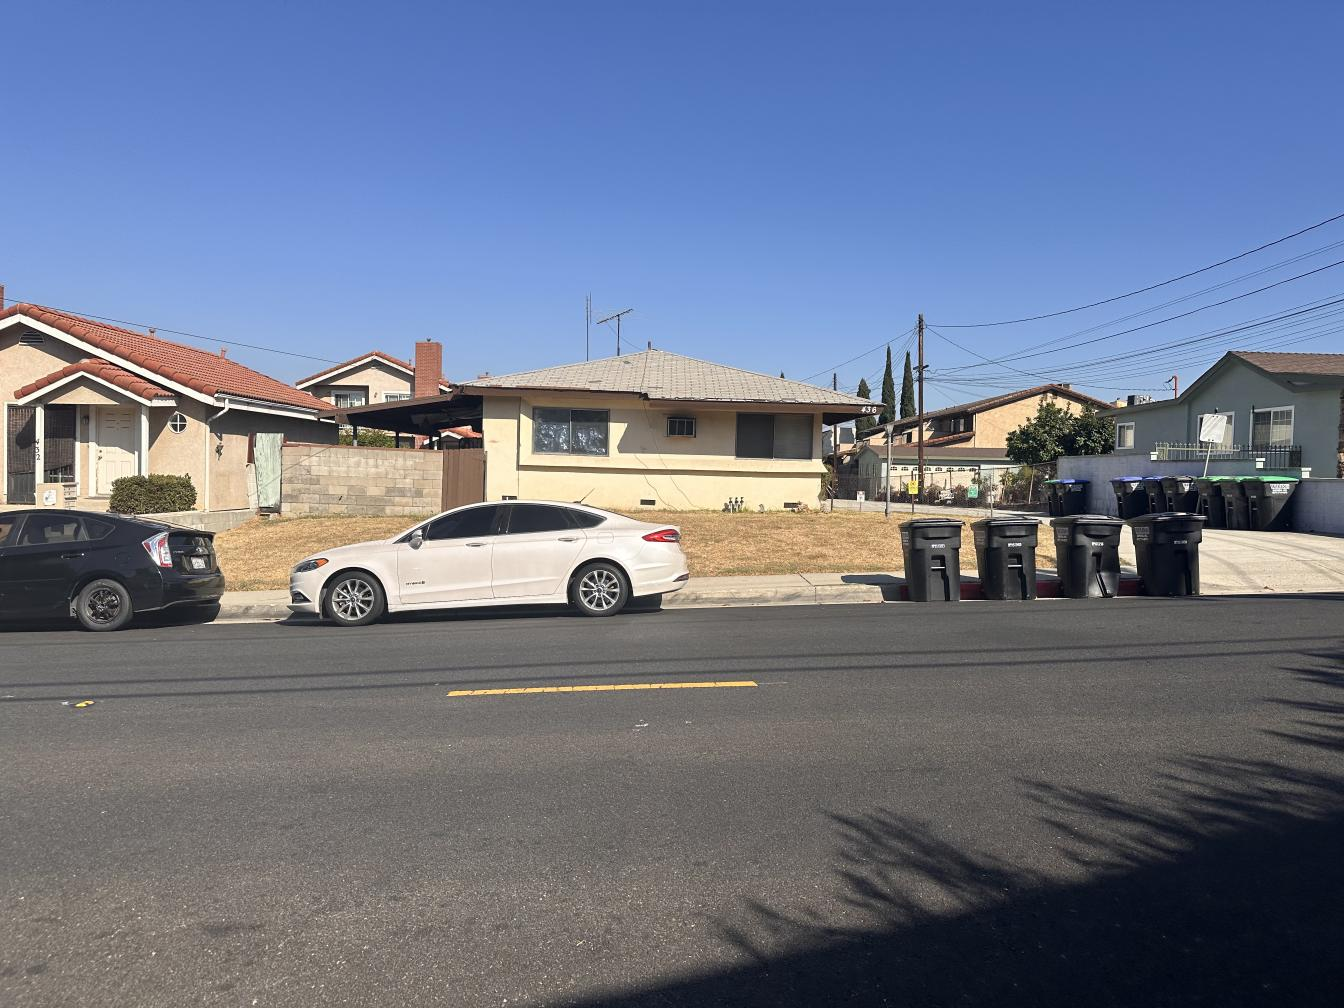curbs-laRr: (696, 581, 901, 610), (225, 593, 290, 630)
